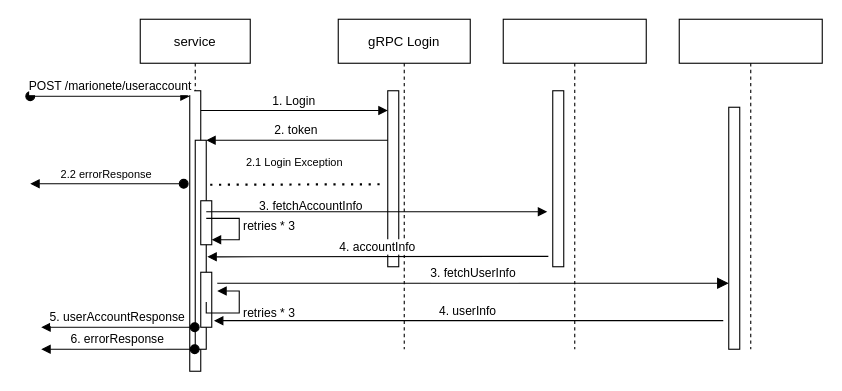
Image size: 842x391. Some labels were removed from this diagram. Each missing label, with the centre of its shape:
accountInfoService: the point at 574,183
userInfoService: the point at 750,183
